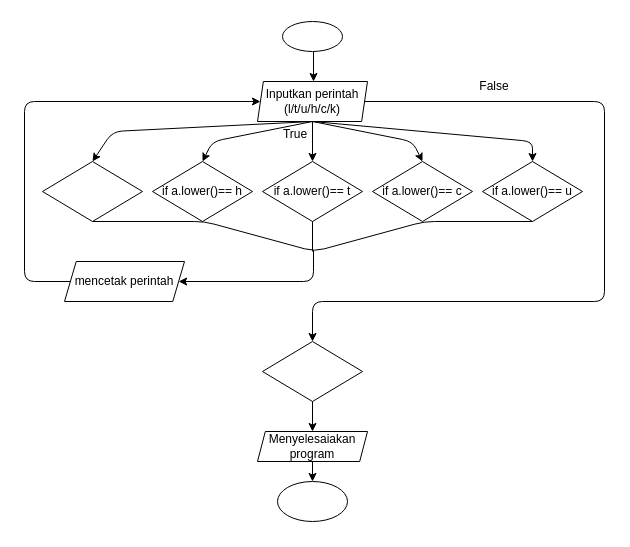
Image size: 630x547. Some labels were removed from this diagram. The box of each missing label's shape, as (x1, y1, x2, y2) in pixels:
if a.lower()== k: (262, 340, 362, 402)
if a.lower()== l: (42, 160, 142, 222)
selesai: (276, 480, 348, 522)
START: (282, 20, 342, 52)
